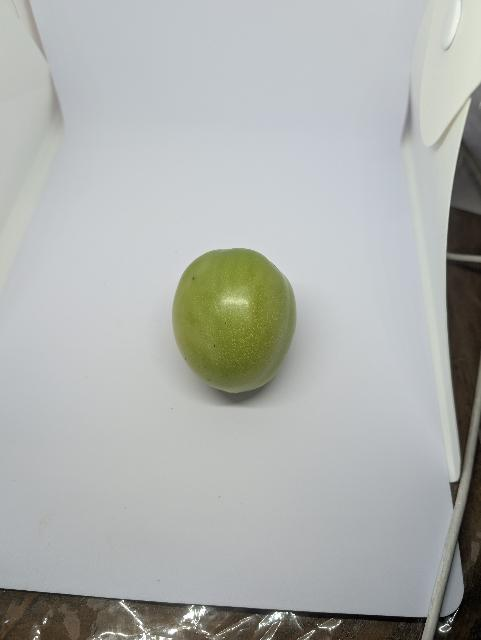green: (170, 242, 304, 400)
